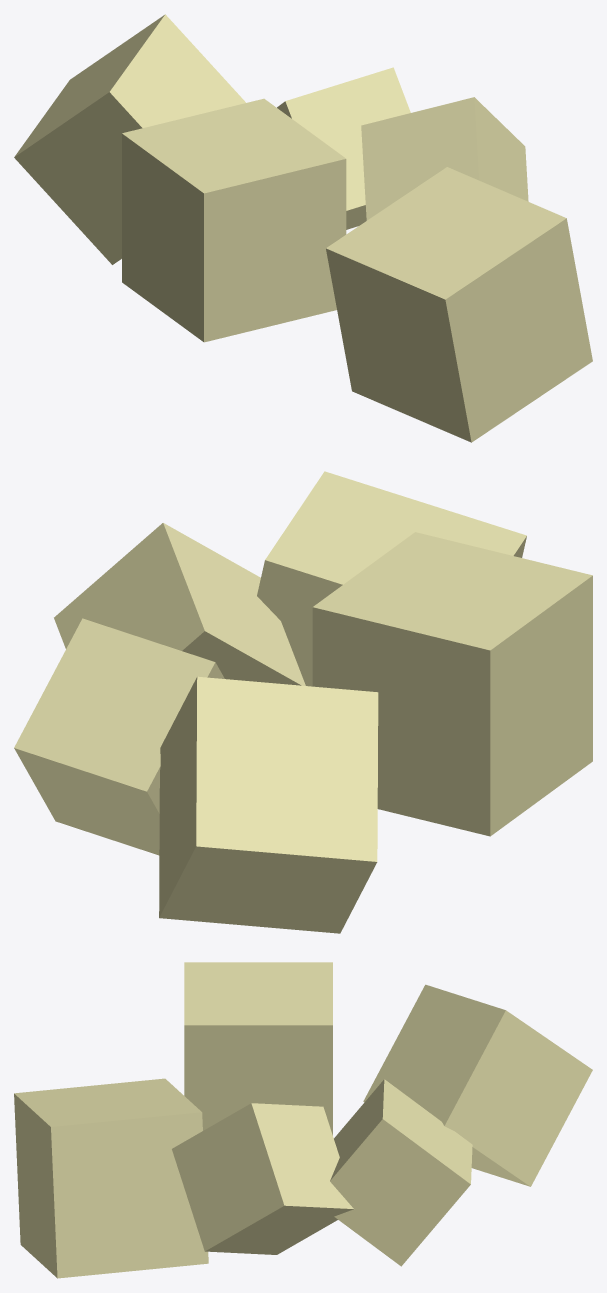
The model's file is mincedGarlic.fbx.
3 renders of one model, top to bottom at view 1: azimuth 30°, elevation 25°; view 2: azimuth 150°, elevation 25°; view 3: azimuth 270°, elevation 25°, orthographic. The views are drawn at different scales.
Visible parts, largest first — view 1: Cube.030, Cube.029, Cube.033, Cube.034, Cube.041; view 2: Cube.029, Cube.033, Cube.041, Cube.034, Cube.030; view 3: Cube.030, Cube.033, Cube.029, Cube.034, Cube.041.
Part boxes in pixels (<box>): Cube.030: <box>326,167,592,442</box>; Cube.029: <box>122,98,346,342</box>; Cube.033: <box>14,14,245,264</box>; Cube.034: <box>361,97,528,220</box>; Cube.041: <box>277,67,410,229</box>; Cube.029: <box>312,532,592,836</box>; Cube.033: <box>159,676,378,933</box>; Cube.041: <box>14,618,224,855</box>; Cube.034: <box>54,523,305,685</box>; Cube.030: <box>257,471,526,686</box>; Cube.030: <box>14,1078,208,1278</box>; Cube.033: <box>363,984,592,1186</box>; Cube.029: <box>184,962,332,1135</box>; Cube.034: <box>172,1103,353,1254</box>; Cube.041: <box>330,1079,472,1266</box>.
Bounding box in the file's own units: 23.32 × 14.01 × 33.58.
